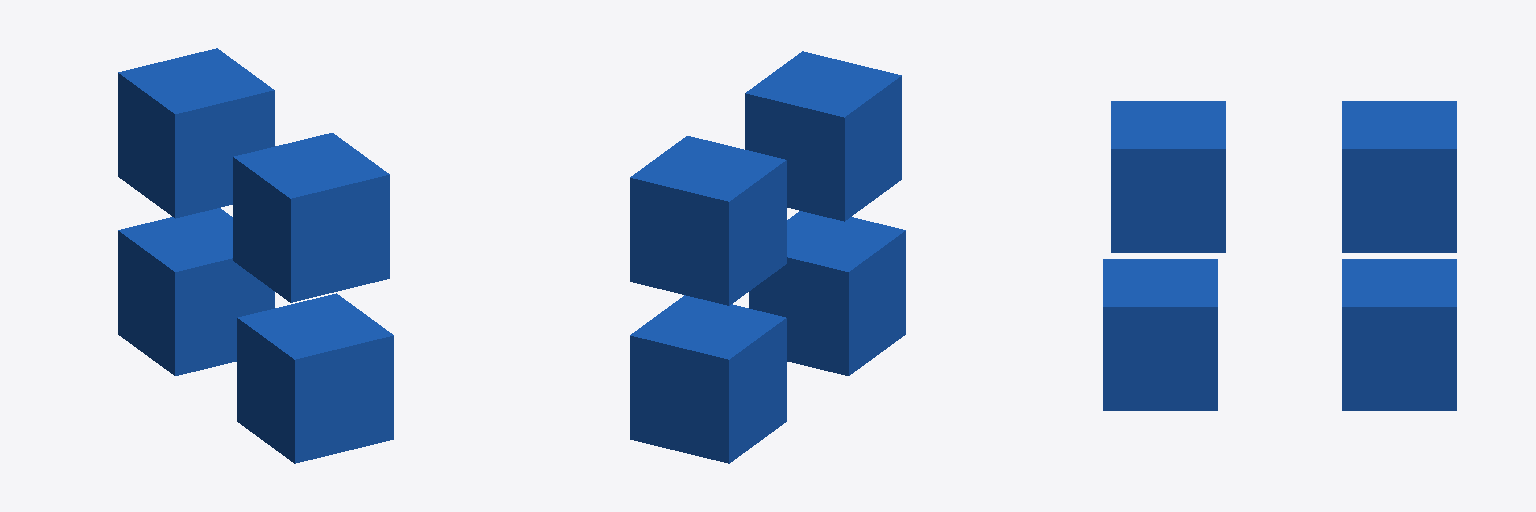
3 views of the same model, side by side, from view 1: azimuth 30°, elevation 25°; view 2: azimuth 150°, elevation 25°; view 3: azimuth 270°, elevation 25° (orthographic).
Parts seen in each view (by area): view 1: 立方体, 立方体.3, 立方体.2, 立方体.1; view 2: 立方体.2, 立方体.1, 立方体.3, 立方体; view 3: 立方体, 立方体.1, 立方体.2, 立方体.3.
Boxes of the visible parts, <box> form: 立方体: <box>237,293,393,463</box>; 立方体.3: <box>233,133,389,302</box>; 立方体.2: <box>118,48,274,218</box>; 立方体.1: <box>118,208,274,375</box>; 立方体.2: <box>630,136,786,305</box>; 立方体.1: <box>630,295,786,463</box>; 立方体.3: <box>745,51,901,221</box>; 立方体: <box>749,211,905,375</box>; 立方体: <box>1103,259,1217,410</box>; 立方体.1: <box>1342,259,1456,410</box>; 立方体.2: <box>1342,101,1456,252</box>; 立方体.3: <box>1111,101,1225,252</box>.
Bounding box in the file's own units: 34.6 × 87.03 × 107.